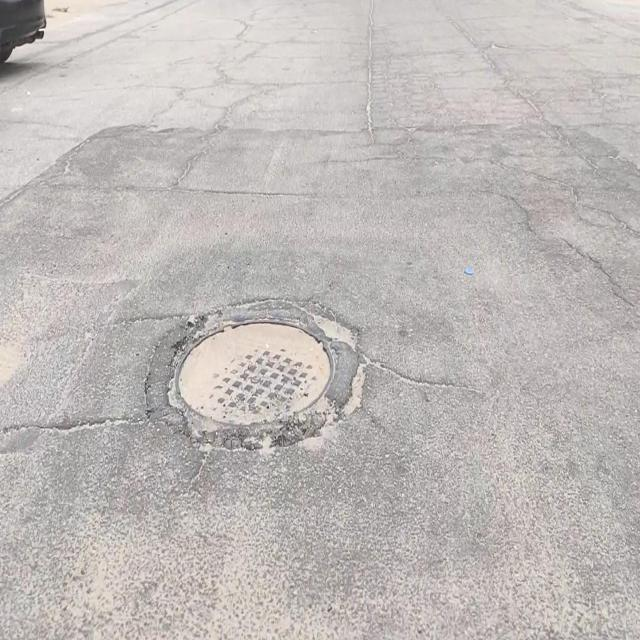Potholes: (172, 310, 334, 431)
